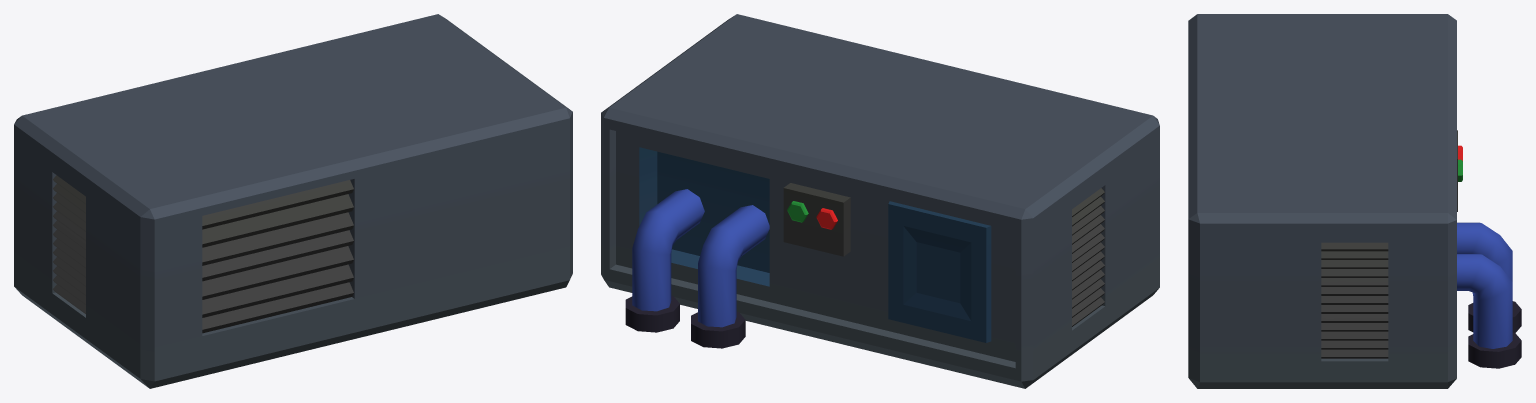
Rendered from Vent_4_C.fbx.
3 renders of one model, left to right at view 1: azimuth 30°, elevation 25°; view 2: azimuth 150°, elevation 25°; view 3: azimuth 270°, elevation 25°, orthographic. The views are drawn at different scales.
Visible parts, largest first — view 1: Vent_4_C; view 2: Vent_4_C; view 3: Vent_4_C.
Part boxes in pixels (bbox=[...]): Vent_4_C: bbox=[14, 14, 572, 388]; Vent_4_C: bbox=[601, 14, 1159, 388]; Vent_4_C: bbox=[1188, 14, 1521, 388].
Bounding box in the file's own units: 101 × 40.11 × 68.82.
